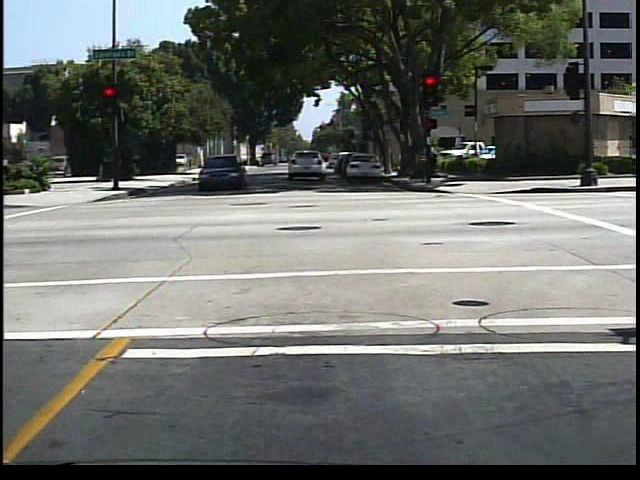person: (421, 137, 441, 187)
